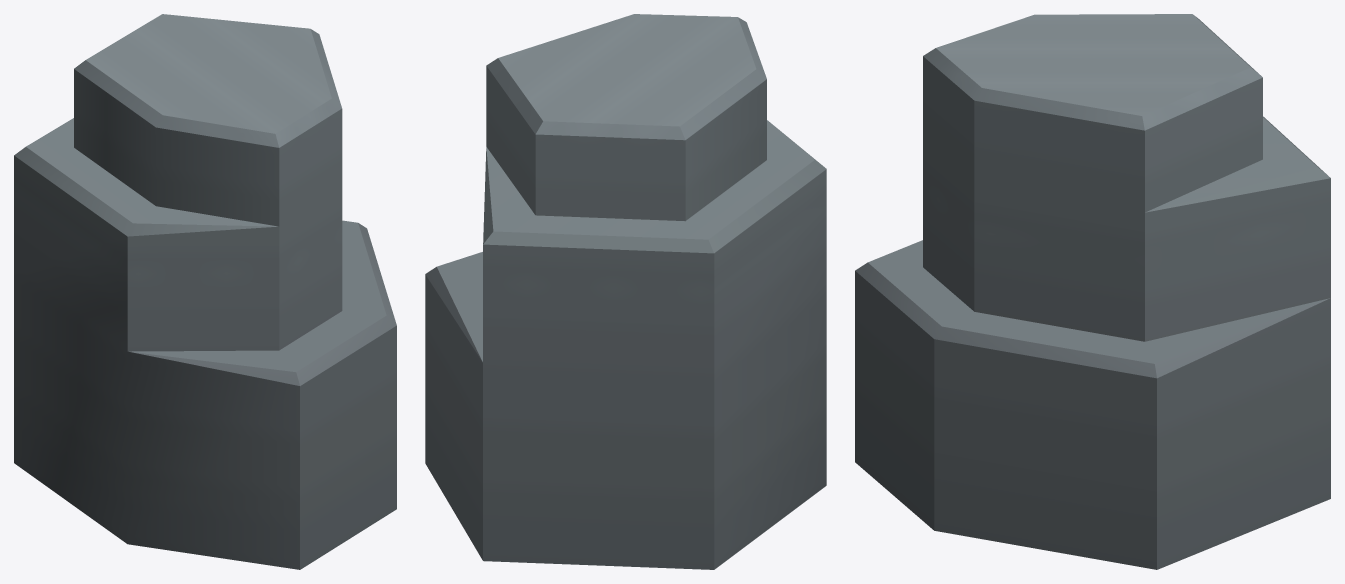
The model's file is Rock_1_D_Color1.gltf.
3 views of the same model, side by side, from view 1: azimuth 30°, elevation 25°; view 2: azimuth 150°, elevation 25°; view 3: azimuth 270°, elevation 25° (orthographic). The views are drawn at different scales.
Visible parts, largest first — view 1: Rock_1_D_Color1; view 2: Rock_1_D_Color1; view 3: Rock_1_D_Color1.
Part boxes in pixels (x1,y1,x2,y2): Rock_1_D_Color1: (14,14,396,569); Rock_1_D_Color1: (425,14,826,569); Rock_1_D_Color1: (855,14,1330,569).
Size of the model in its own units: 0.9271 by 1.13 by 1.16.
Materials: 1 (1 with a texture image).
